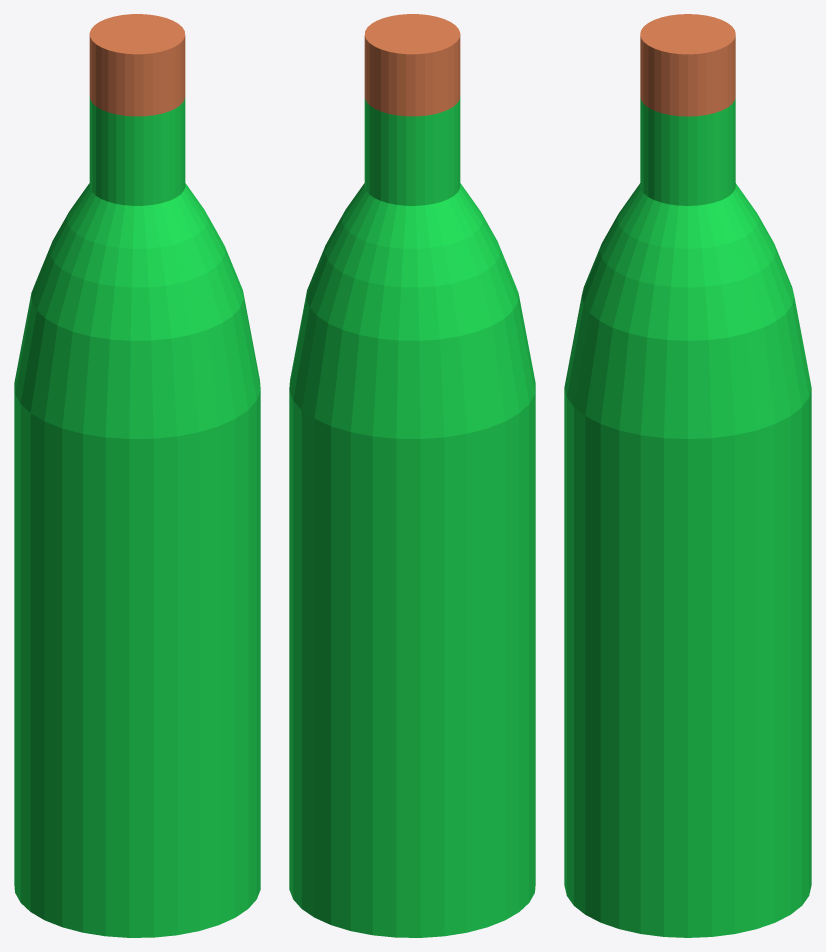
Rendered from Bottle.fbx.
The picture shows the model from 3 angles, left to right: view 1: azimuth 30°, elevation 25°; view 2: azimuth 150°, elevation 25°; view 3: azimuth 270°, elevation 25°; orthographic projection.
Visible parts, largest first — view 1: Cylinder; view 2: Cylinder; view 3: Cylinder.
Part boxes in pixels (x1,y1,x2,y2): Cylinder: (14, 14, 260, 937); Cylinder: (289, 14, 535, 937); Cylinder: (564, 14, 811, 937).
Size of the model in its own units: 200 by 761 by 200.
